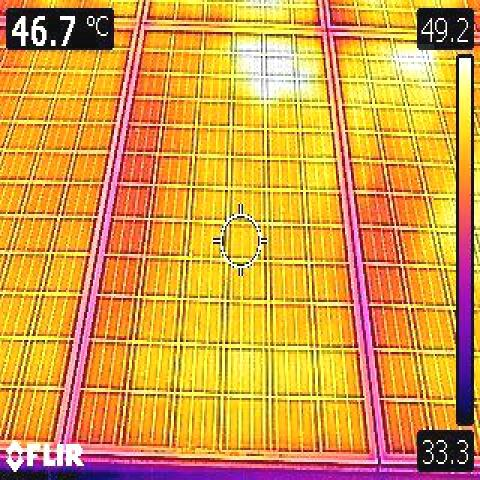fault: (230, 33, 326, 110), (392, 44, 434, 70), (235, 0, 283, 11)
